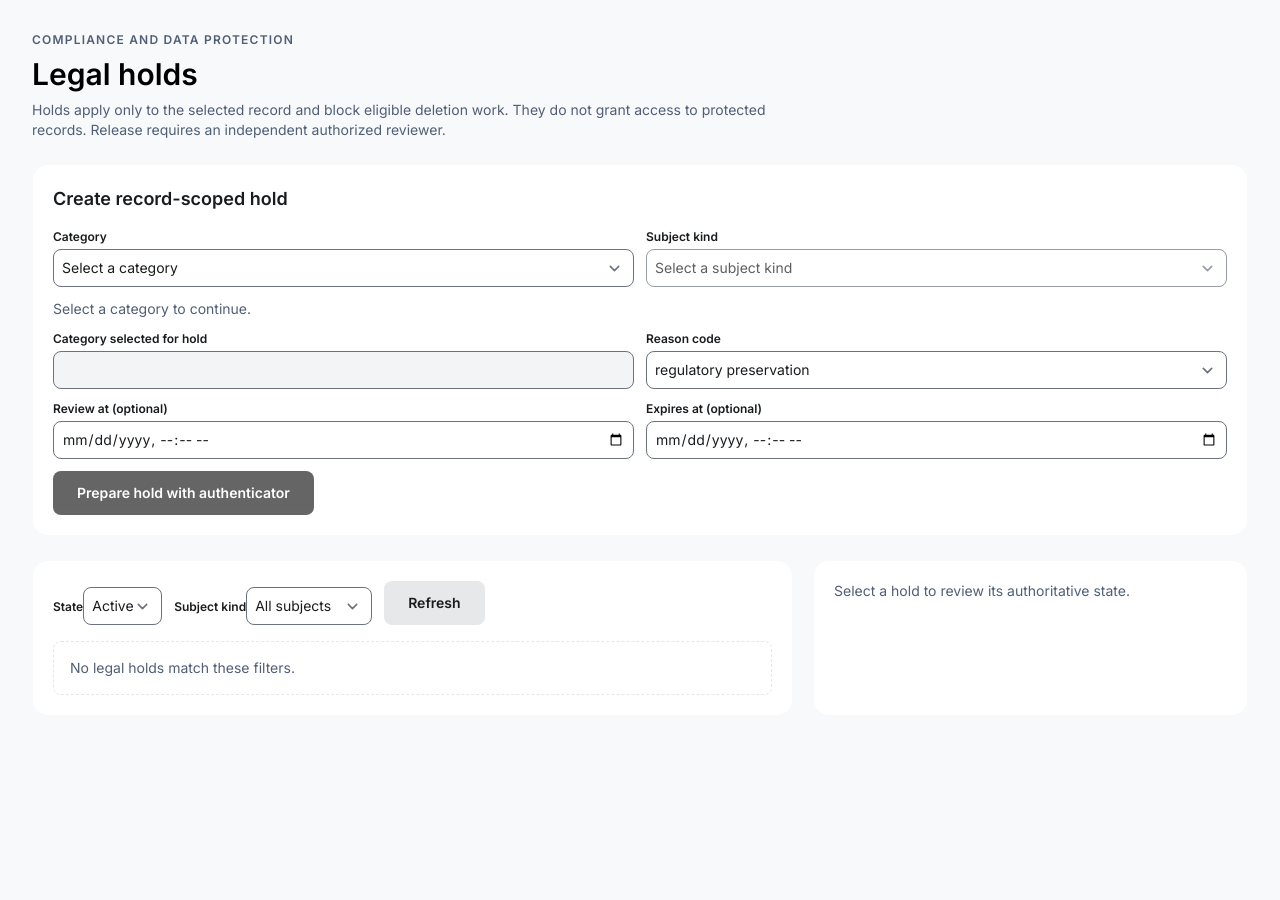
Test: admin legal-hold subject selector › clears a selected subject when filters change or a new result set omits it
Select "Account and profile" in the dropdown labelled "Category" at {"x": 344, "y": 268}, box [53,249,634,287]
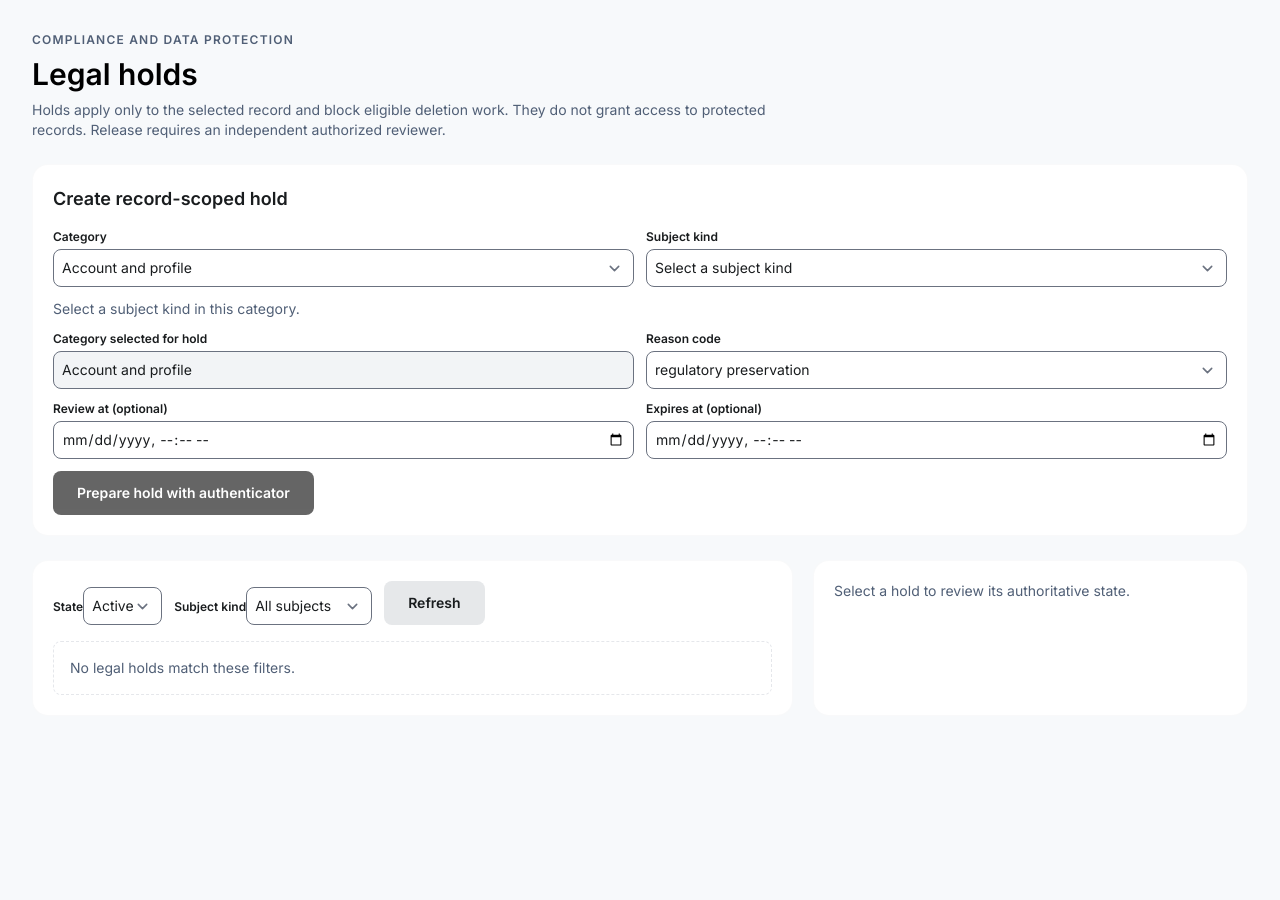
Select "Profile" in the 1st dropdown labelled "Subject kind" at {"x": 936, "y": 268}, box [646,249,1227,287]
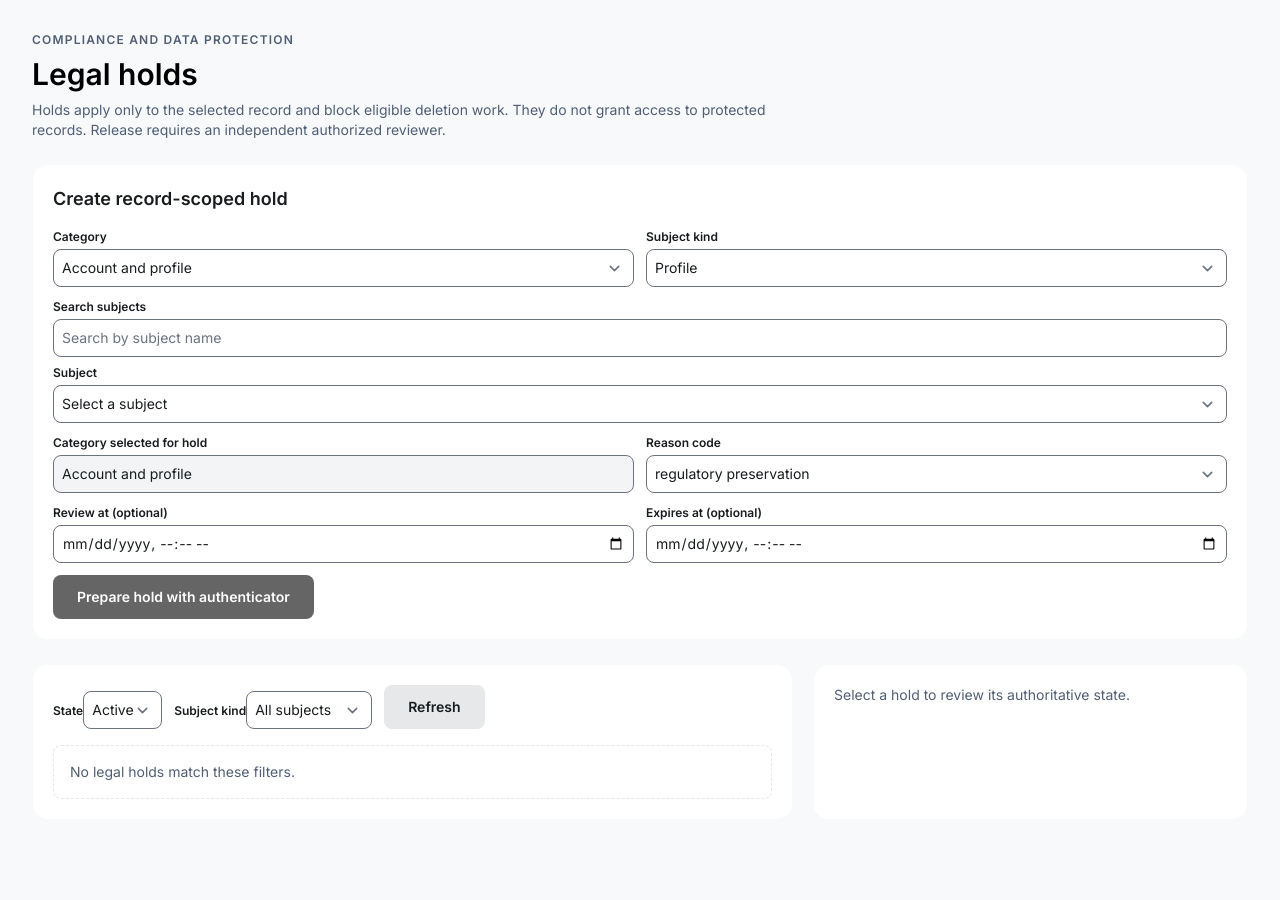
Select "Example profile · Developer · Company" in the dropdown labelled "Subject" at {"x": 640, "y": 404}, box [53,385,1227,423]
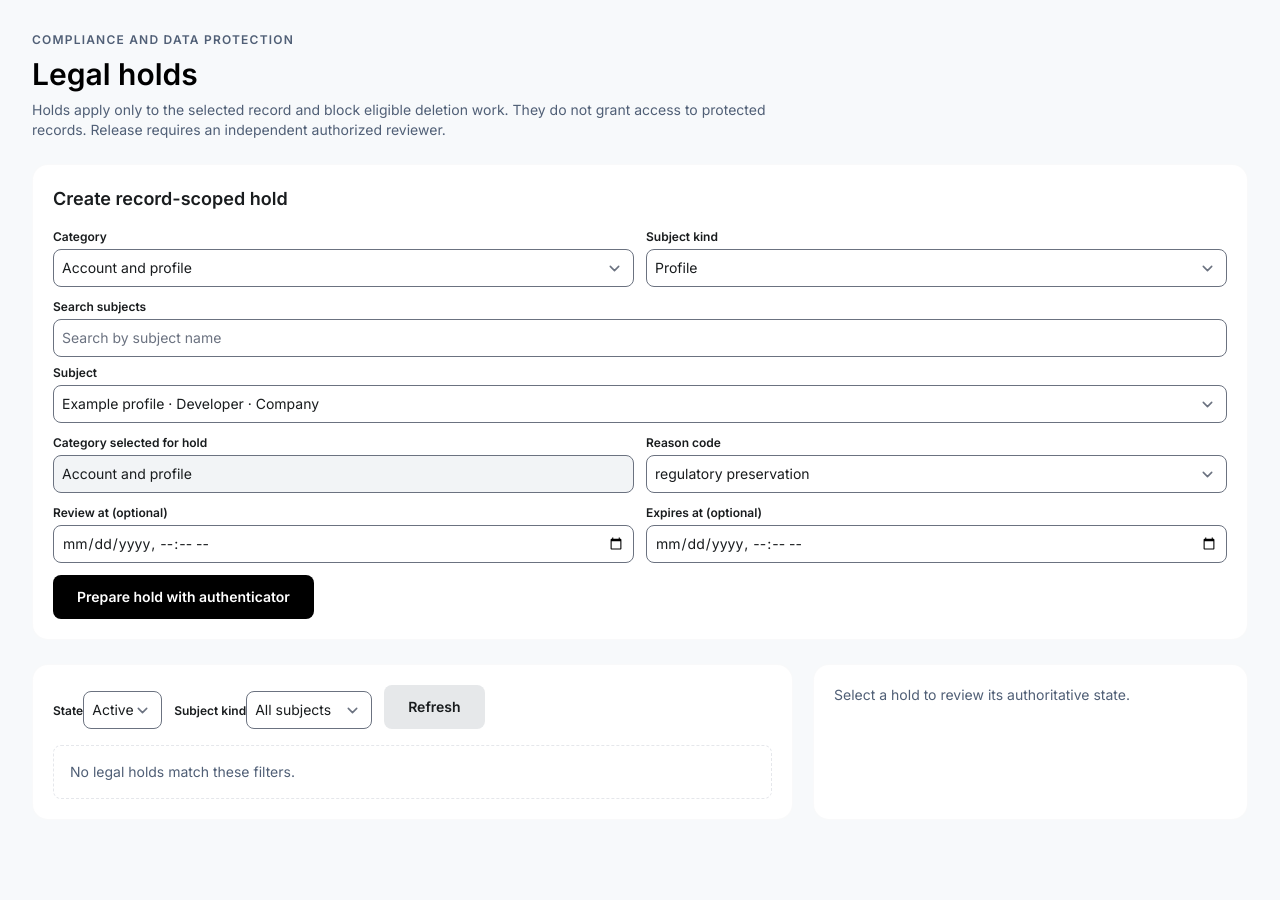
Type "no-match" into the field labelled "Search subjects" at {"x": 640, "y": 338}, box [53,319,1227,357]
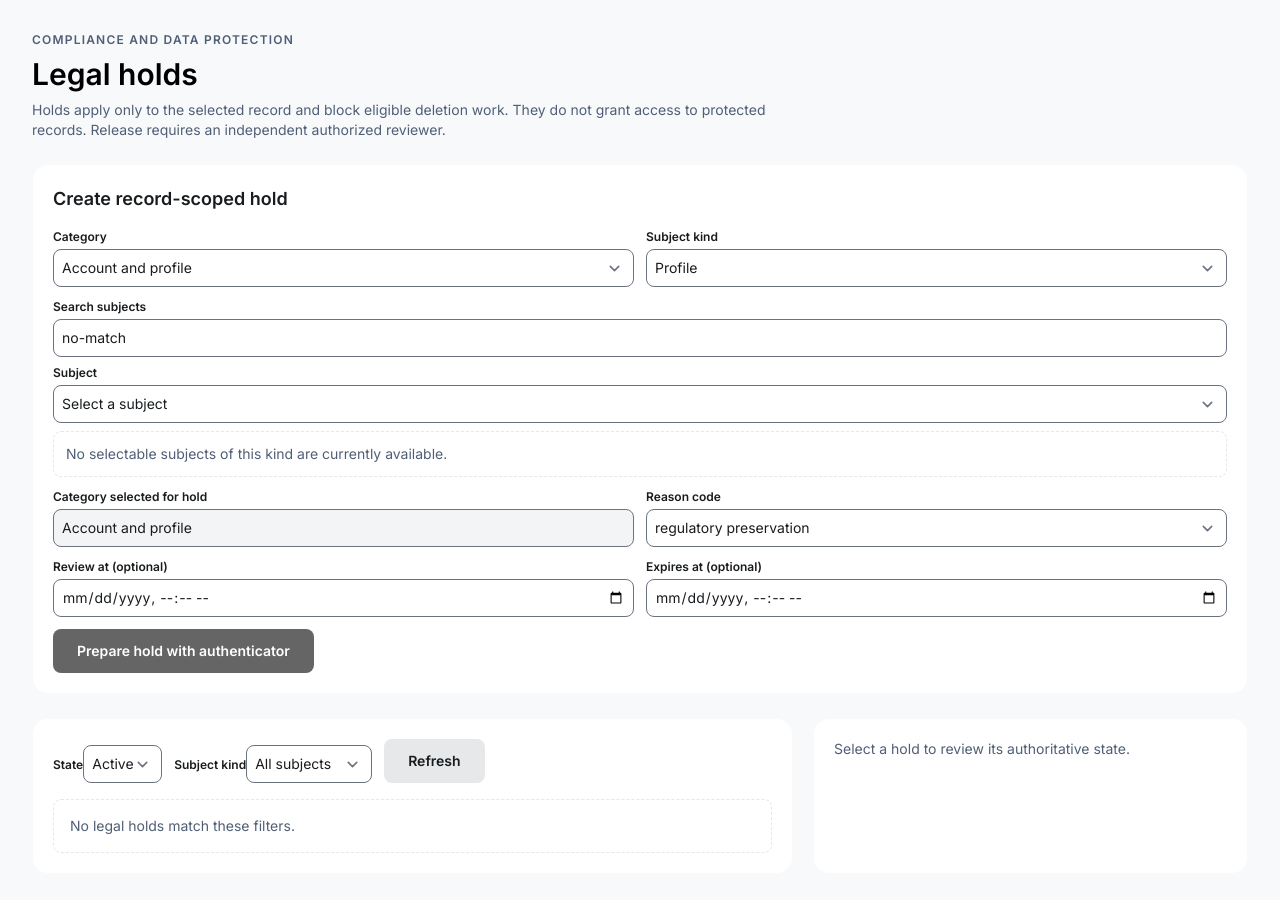
Now the text "No selectable subjects of this kind are currently available." is shown, box [53,431,1227,477]
Now the button "Prepare hold with authenticator" is disabled, box [53,629,314,673]
Select "Regulatory and litigation" in the dropdown labelled "Category" at {"x": 344, "y": 268}, box [53,249,634,287]
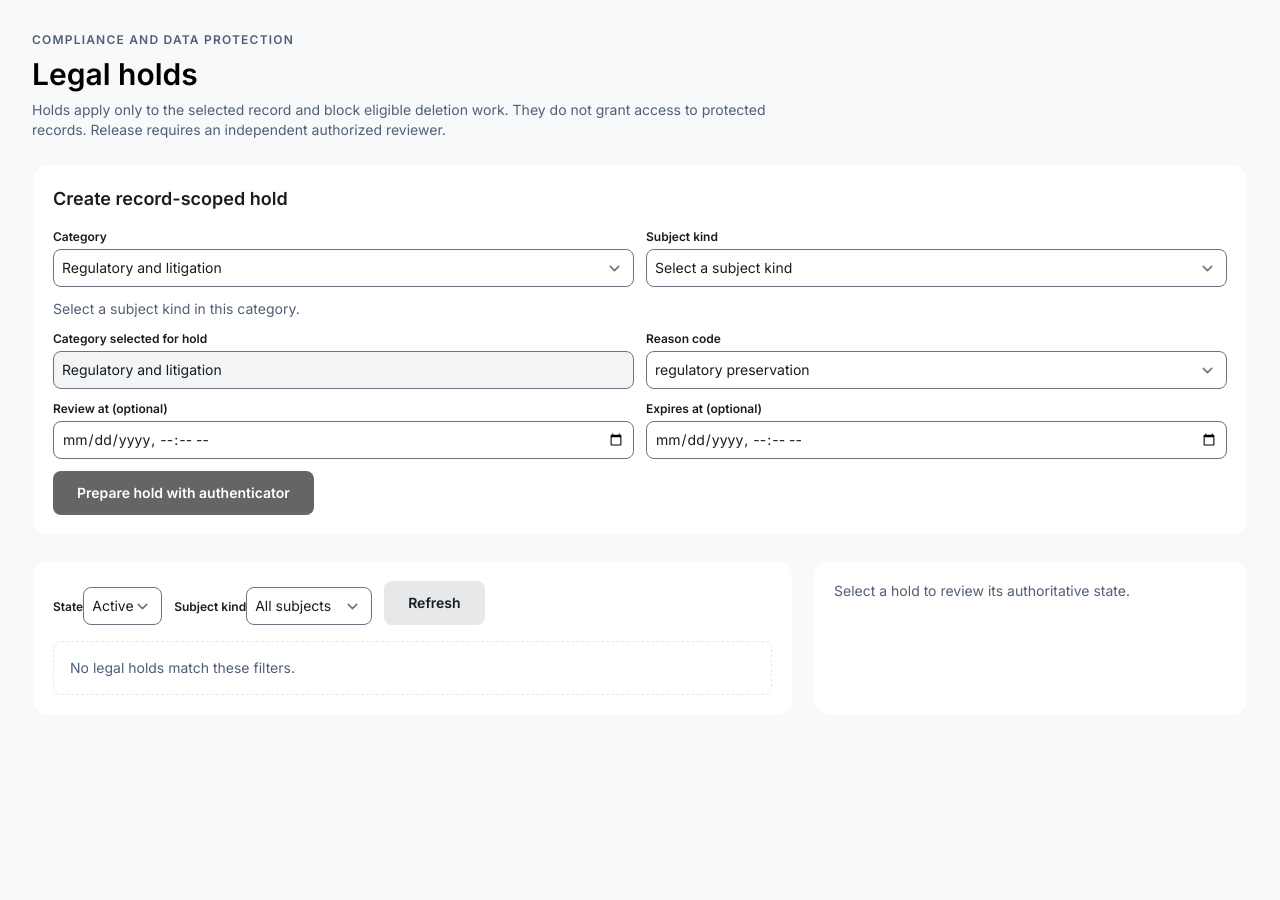
Now the text "Select a subject kind in this category." is shown, box [53,300,300,317]
